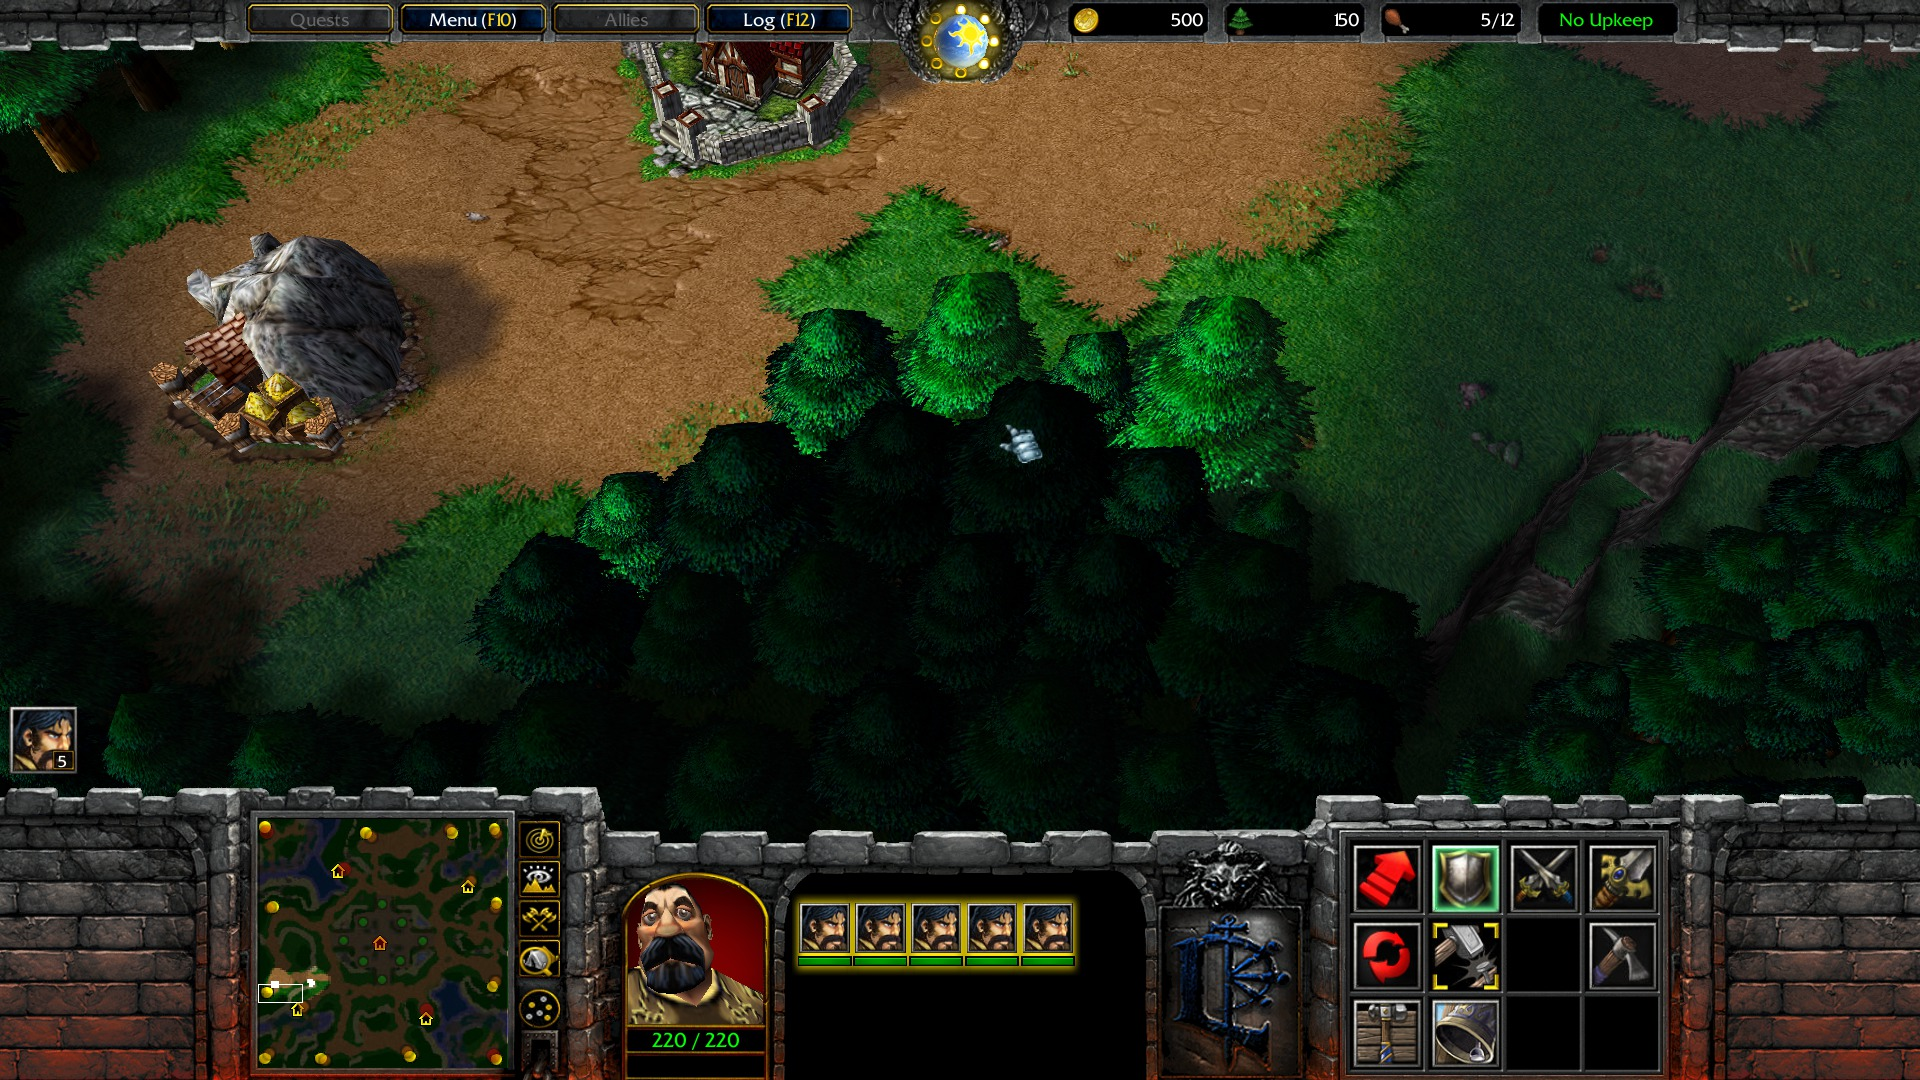Townhall: (613, 43, 881, 188)
